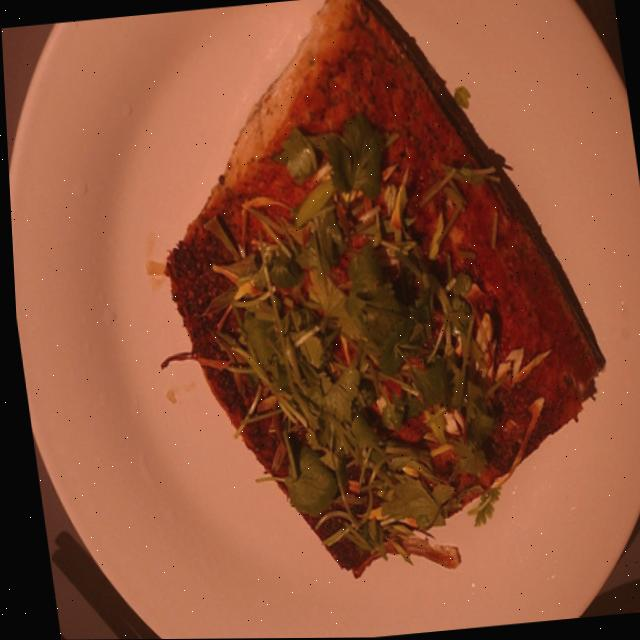熟制海鲜: (104, 0, 638, 601)
